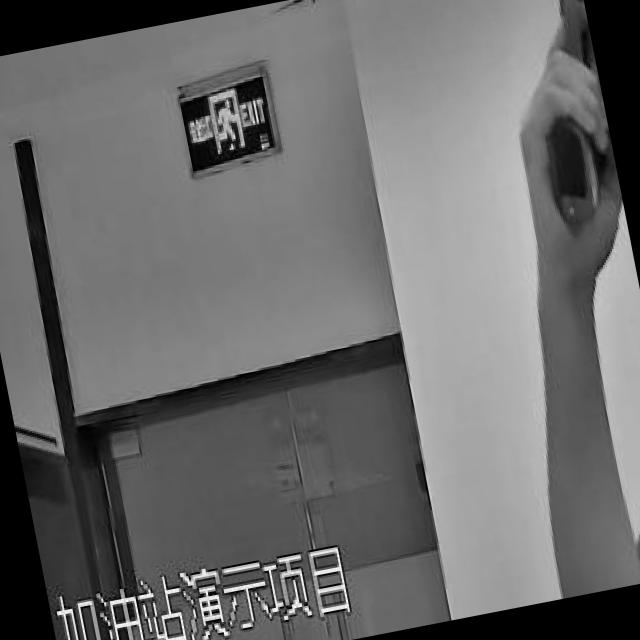Guns: (490, 0, 631, 263)
